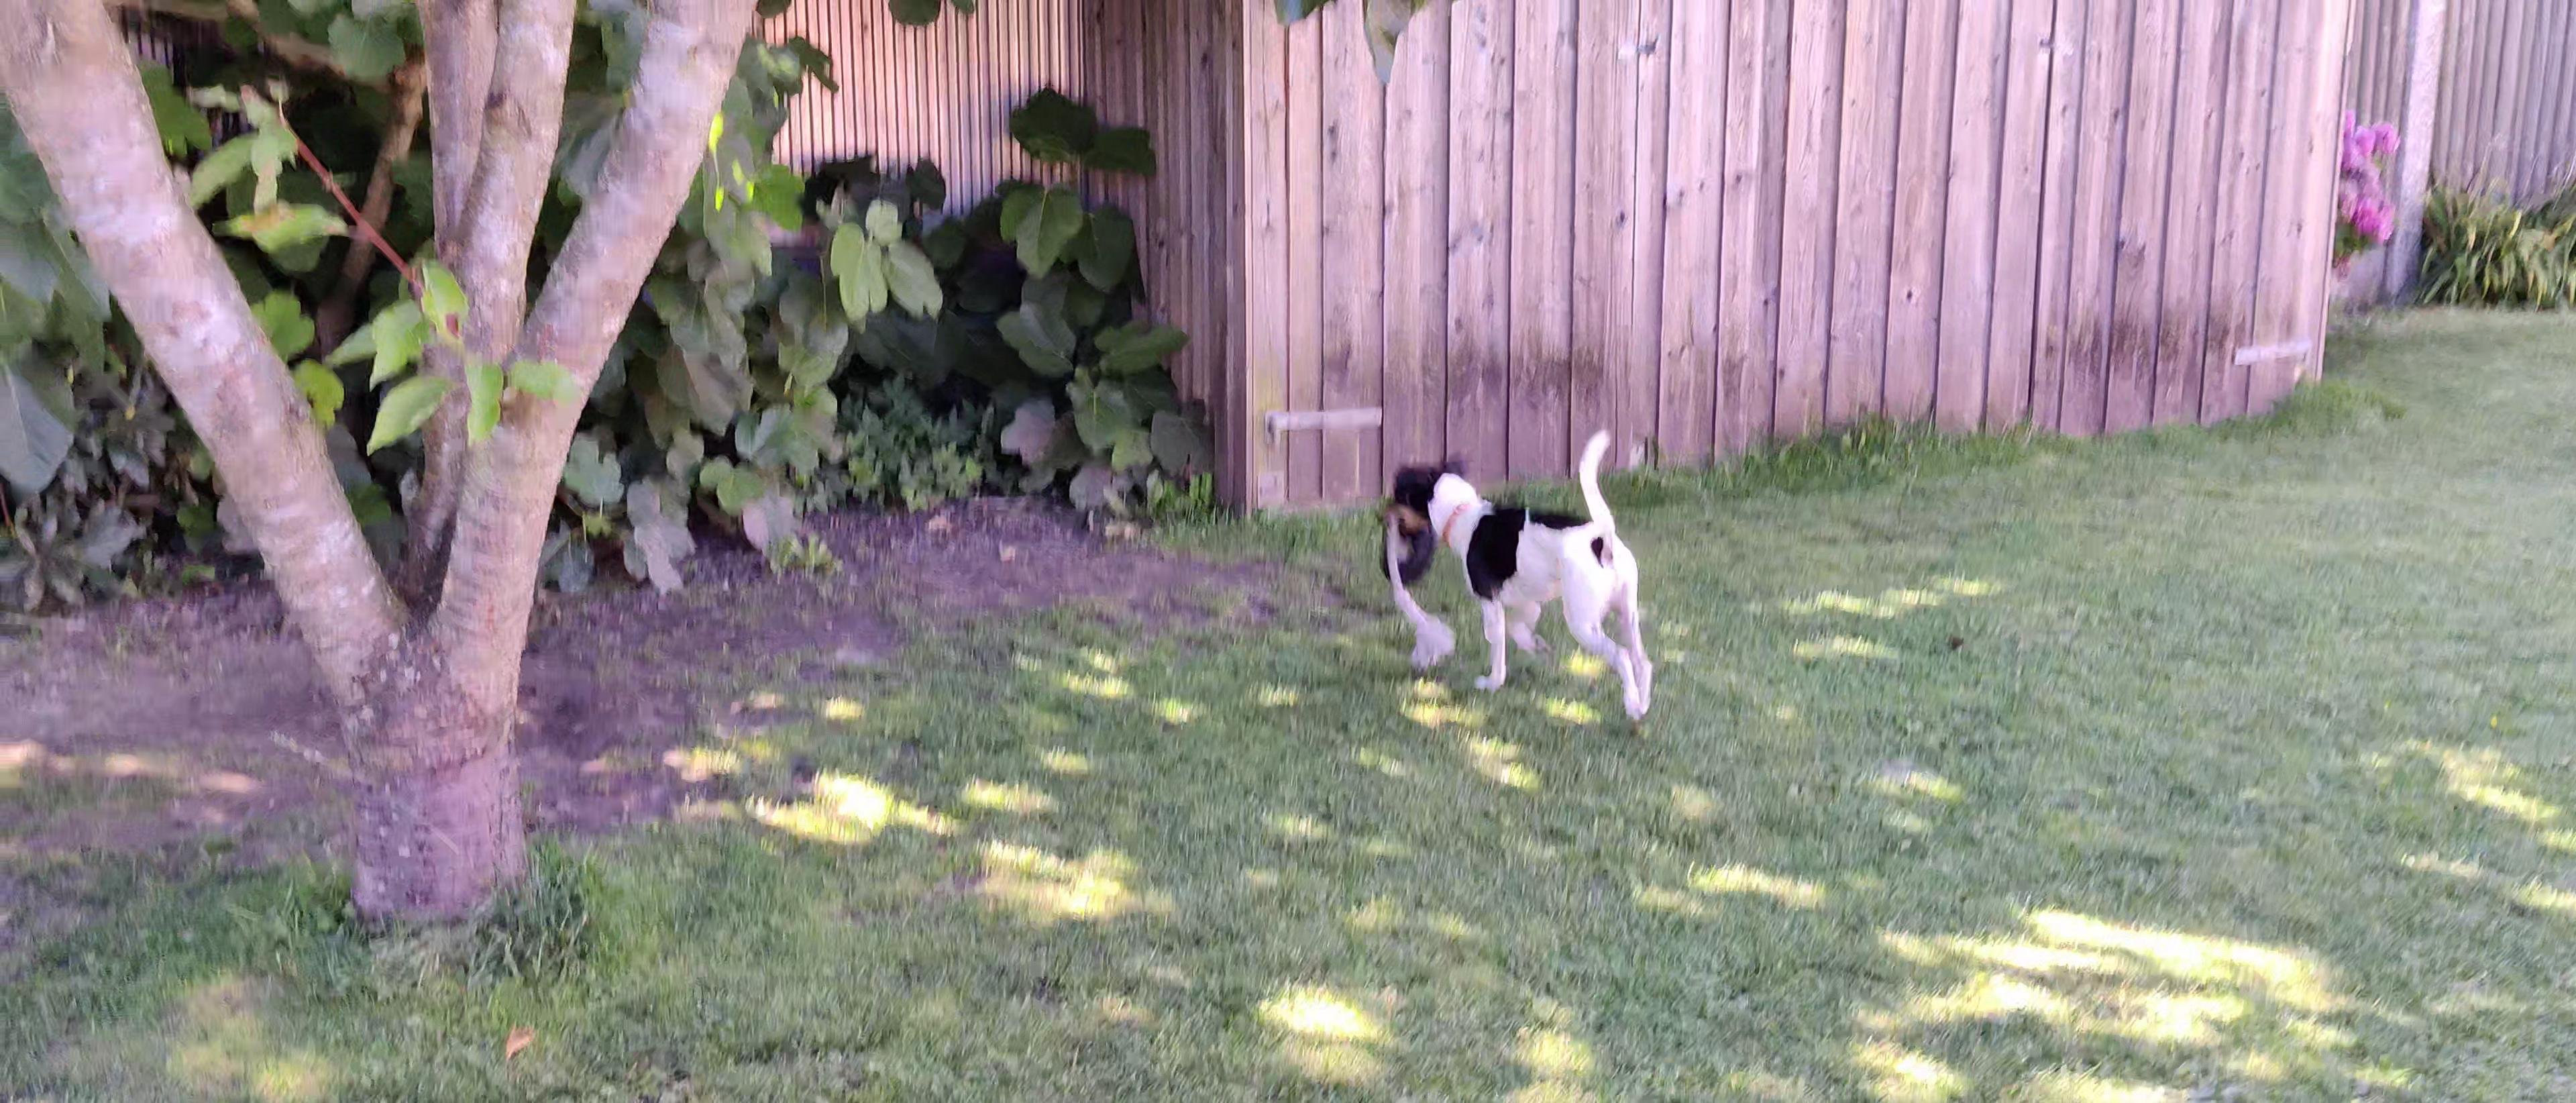Dog: (1373, 422, 1664, 727)
